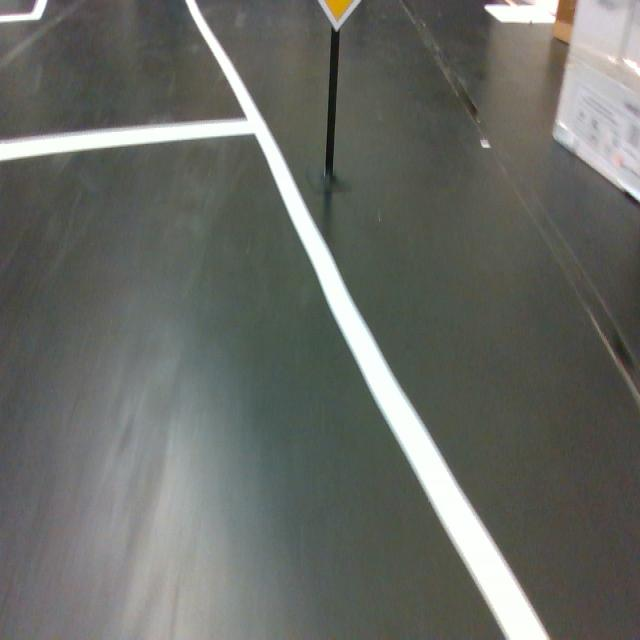priority-sign: (316, 0, 362, 34)
